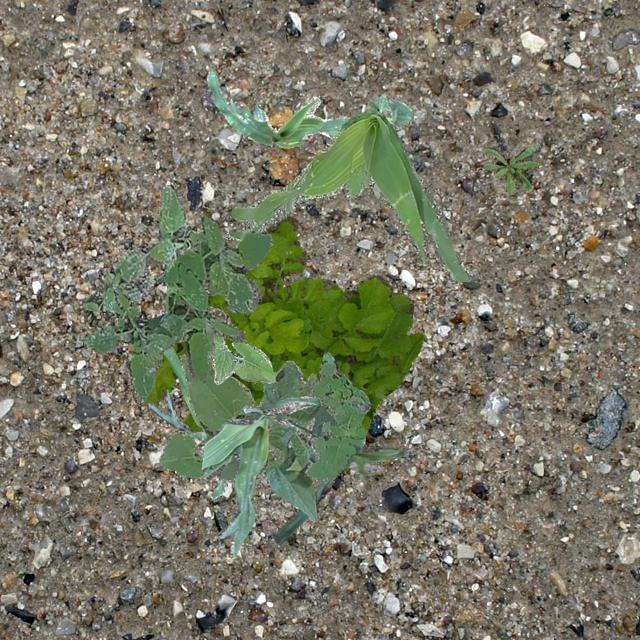crop: (158, 354, 332, 520), (274, 396, 409, 542), (200, 394, 320, 554), (146, 344, 226, 498), (206, 68, 346, 146), (210, 334, 274, 384), (364, 92, 414, 128)
weed: (138, 214, 422, 430), (223, 112, 472, 280), (80, 216, 272, 402), (82, 184, 202, 312), (304, 350, 369, 480), (482, 140, 540, 193)
